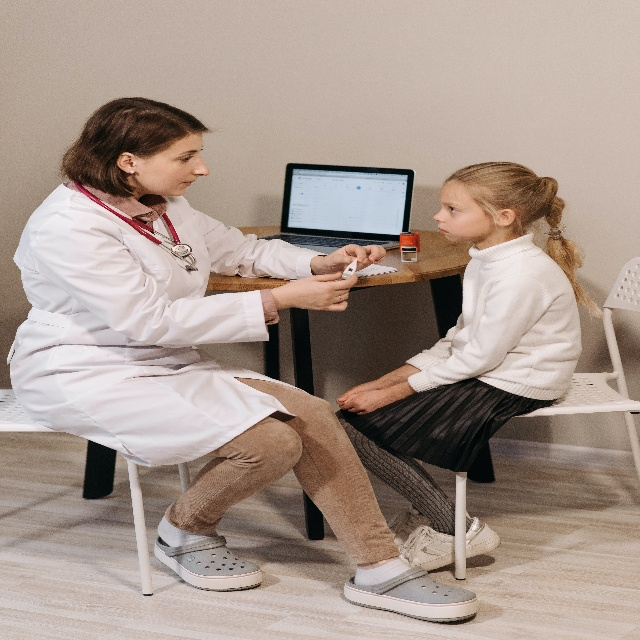Sin_guantes: (289, 273, 358, 313), (319, 243, 386, 277), (336, 376, 385, 414), (343, 387, 387, 416)
